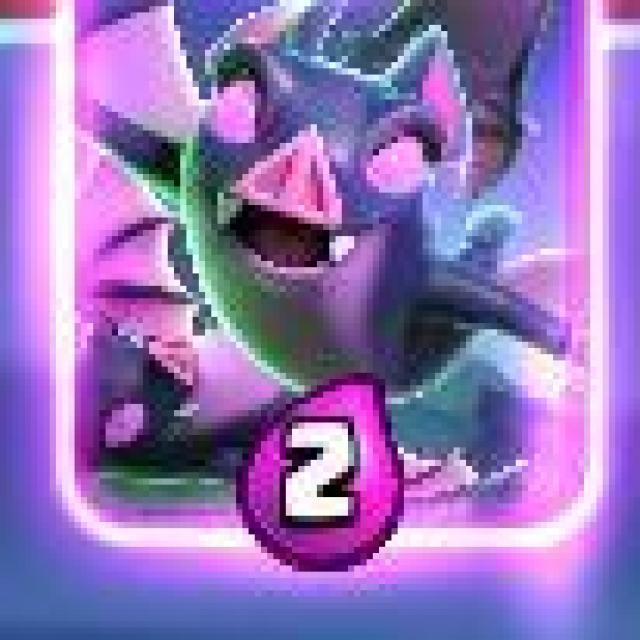Evolved_Bats: (48, 0, 608, 555)
